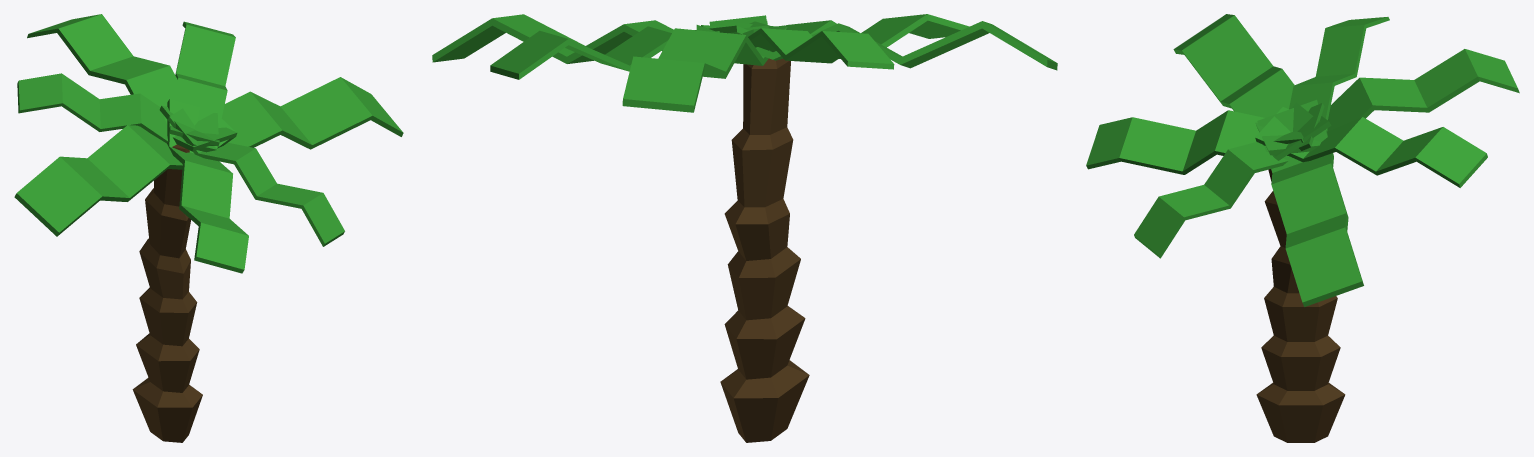
File: PalmTree1.fbx
3 views of the same model, side by side, from view 1: azimuth 30°, elevation 25°; view 2: azimuth 150°, elevation 25°; view 3: azimuth 270°, elevation 25° (orthographic). The views are drawn at different scales.
Visible parts, largest first — view 1: Trunk, Leaf.007, Leaf, Leaf.006, Leaf.002, Leaf.003, Leaf.004, Leaf.001; view 2: Trunk, Leaf.002, Leaf.001, Leaf.003, Leaf, Leaf.007, Leaf.006; view 3: Trunk, Leaf, Leaf.006, Leaf.007, Leaf.002, Leaf.001, Leaf.004, Leaf.003.
Boxes of the visible parts, box(x1,y1,x2,y2) form: Trunk: box(132, 143, 202, 442); Leaf.007: box(14, 93, 235, 236); Leaf: box(159, 77, 403, 152); Leaf.006: box(167, 99, 248, 273); Leaf.002: box(27, 14, 237, 151); Leaf.003: box(17, 73, 218, 145); Leaf.004: box(168, 108, 344, 246); Leaf.001: box(169, 21, 235, 146); Trunk: box(720, 58, 809, 442); Leaf.002: box(622, 20, 787, 112); Leaf.001: box(490, 21, 782, 79); Leaf.003: box(701, 25, 894, 69); Leaf: box(432, 14, 785, 63); Leaf.007: box(696, 21, 1057, 70); Leaf.006: box(695, 14, 969, 58); Trunk: box(1256, 169, 1345, 442); Leaf: box(1257, 99, 1363, 306); Leaf.006: box(1086, 103, 1324, 174); Leaf.007: box(1173, 14, 1331, 160); Leaf.002: box(1255, 49, 1519, 155); Leaf.001: box(1255, 107, 1487, 187); Leaf.004: box(1134, 102, 1319, 258); Leaf.003: box(1263, 17, 1389, 145).
Bounding box in the file's own units: 1093 × 878 × 927.
